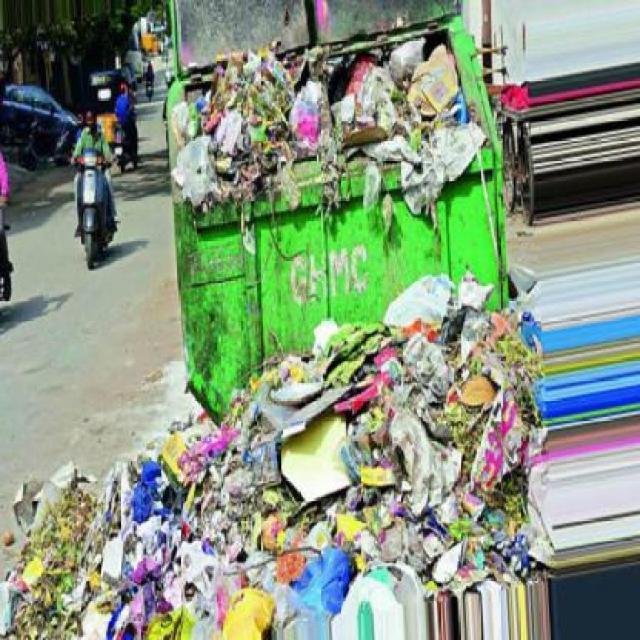garbage: (9, 328, 546, 639), (162, 40, 506, 224), (359, 280, 550, 328)
